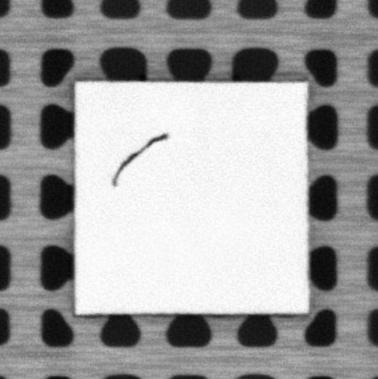DIE_INK: (112, 134, 170, 187)
